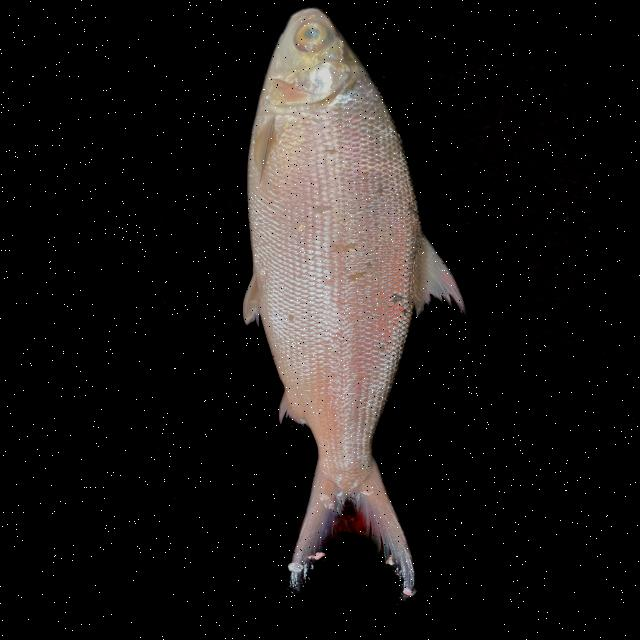905 g: (243, 7, 467, 600)
